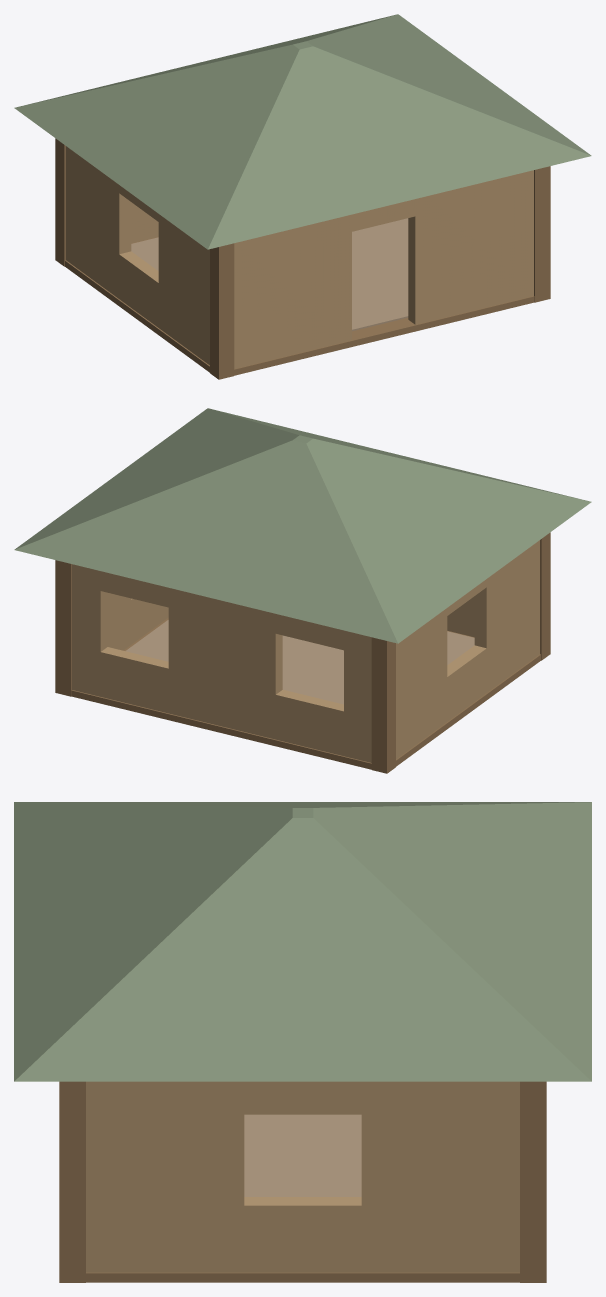
Rendered from cabin.glb.
3 renders of one model, top to bottom at view 1: azimuth 30°, elevation 25°; view 2: azimuth 150°, elevation 25°; view 3: azimuth 270°, elevation 25°, orthographic. The views are drawn at different scales.
Visible parts, largest first — view 1: cabin; view 2: cabin; view 3: cabin.
Boxes of the visible parts, box(x1,y1,x2,y2) form: cabin: box(14, 14, 591, 379); cabin: box(14, 408, 591, 773); cabin: box(14, 802, 591, 1282).
Size of the model in its own units: 7.9 by 4.6 by 6.9.
